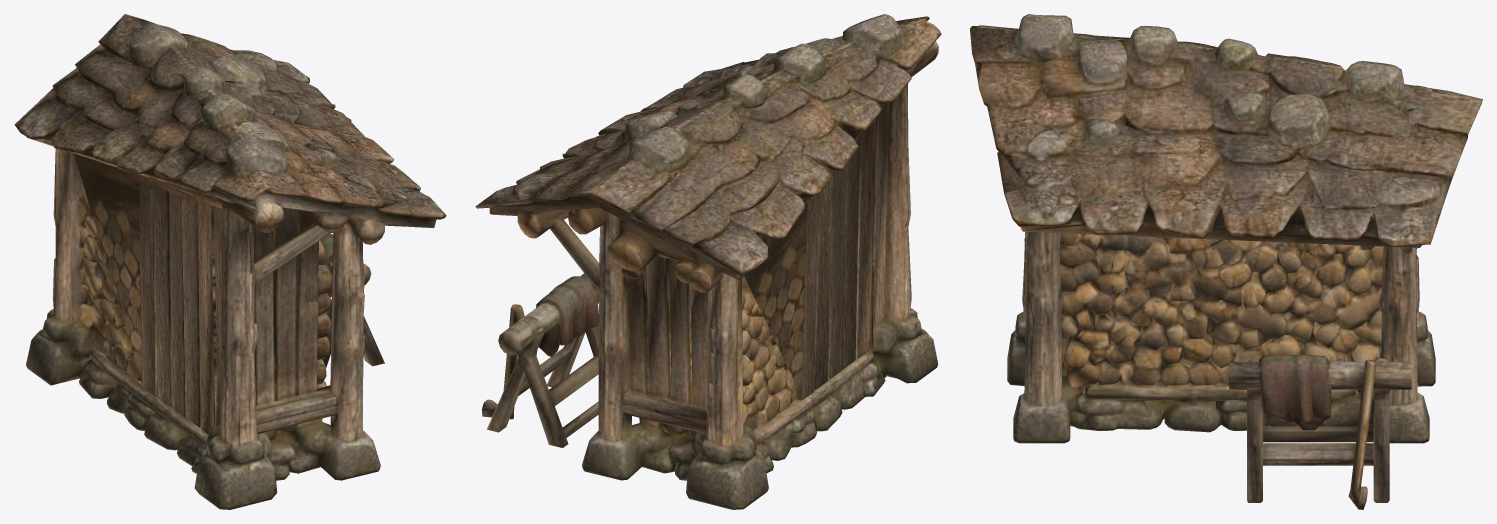
The model's file is kit_tw_wood_shelter.glb.
The picture shows the model from 3 angles, left to right: view 1: azimuth 30°, elevation 25°; view 2: azimuth 150°, elevation 25°; view 3: azimuth 270°, elevation 25°; orthographic projection. The views are drawn at different scales.
Parts seen in each view (by area): view 1: kit_tw_wood_shelter; view 2: kit_tw_wood_shelter; view 3: kit_tw_wood_shelter.
Boxes of the visible parts, x1,y1,x2,y2 form: kit_tw_wood_shelter: (14,14,446,509); kit_tw_wood_shelter: (475,14,941,509); kit_tw_wood_shelter: (970,14,1482,509).
Bounding box in the file's own units: 2.09 × 2.3 × 2.89.
1 material, 1 textured.
